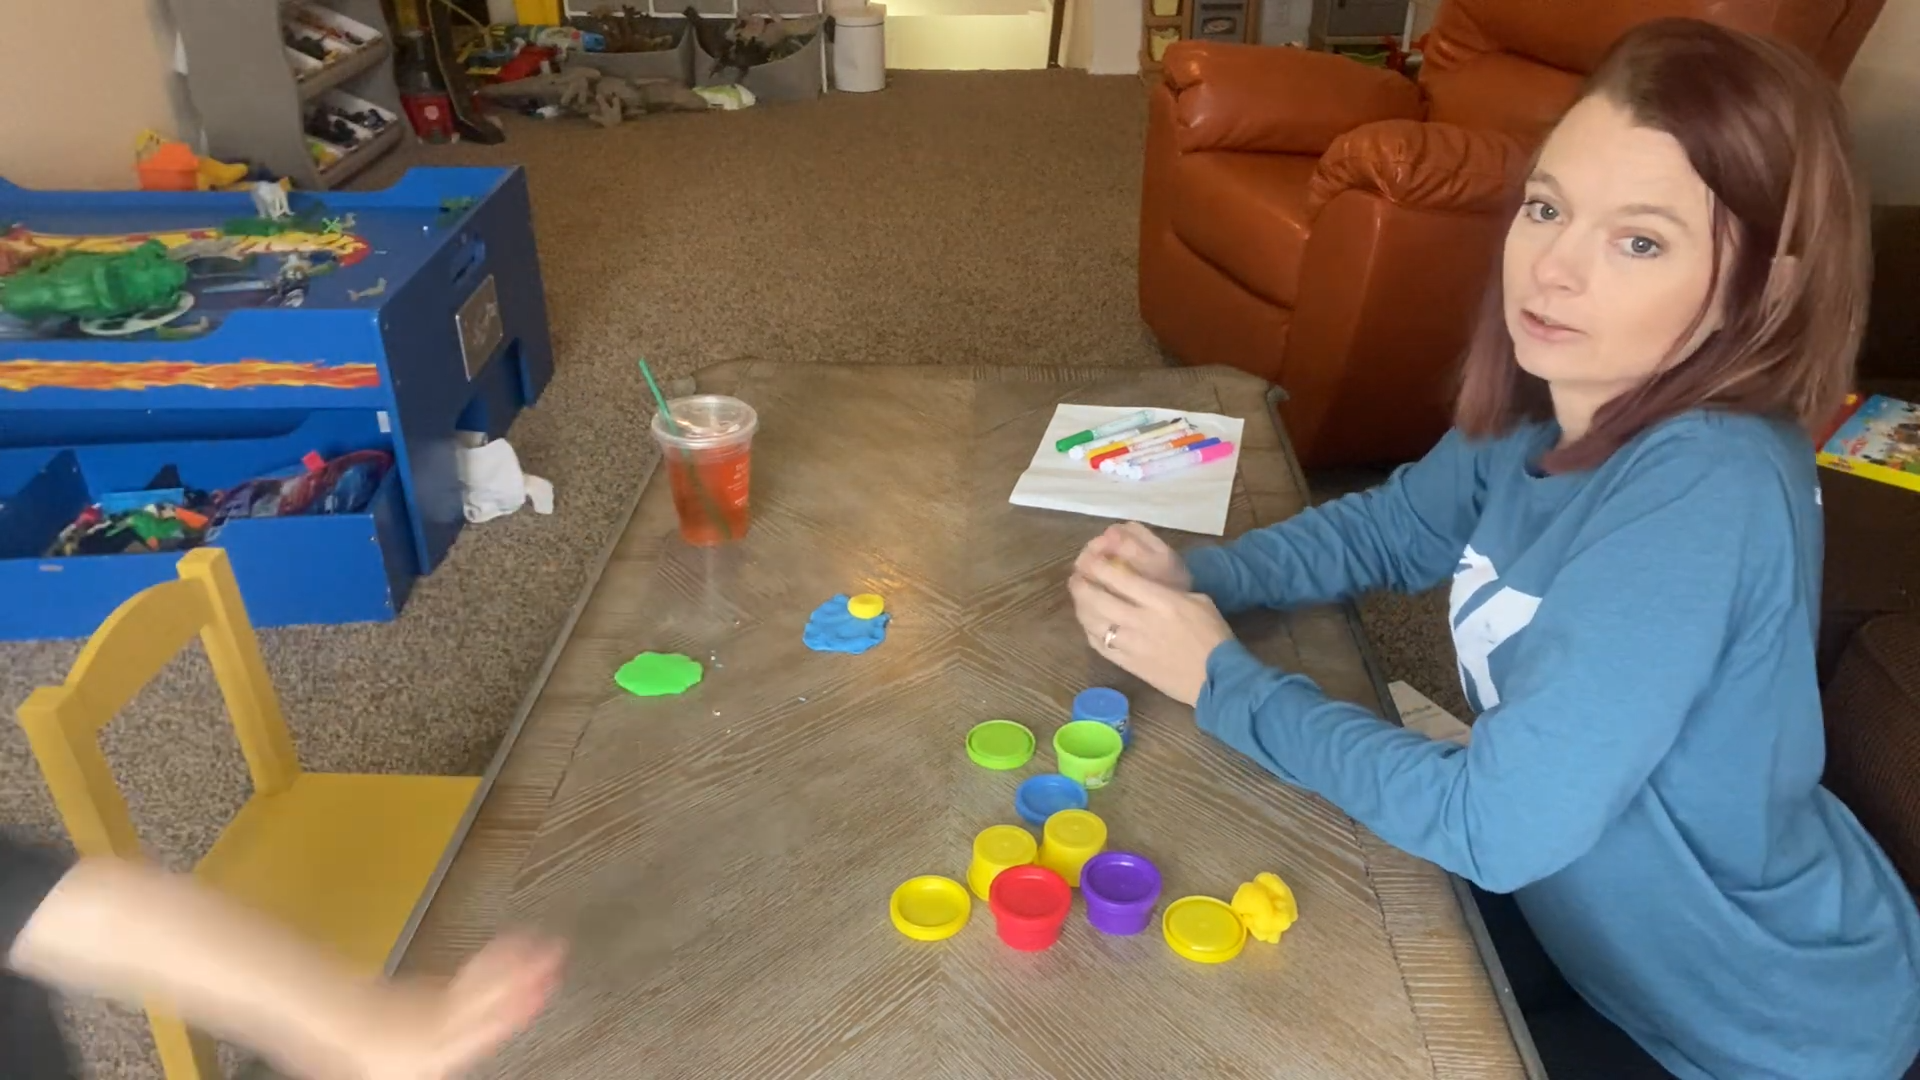Therapist: (1067, 13, 1919, 1080)
